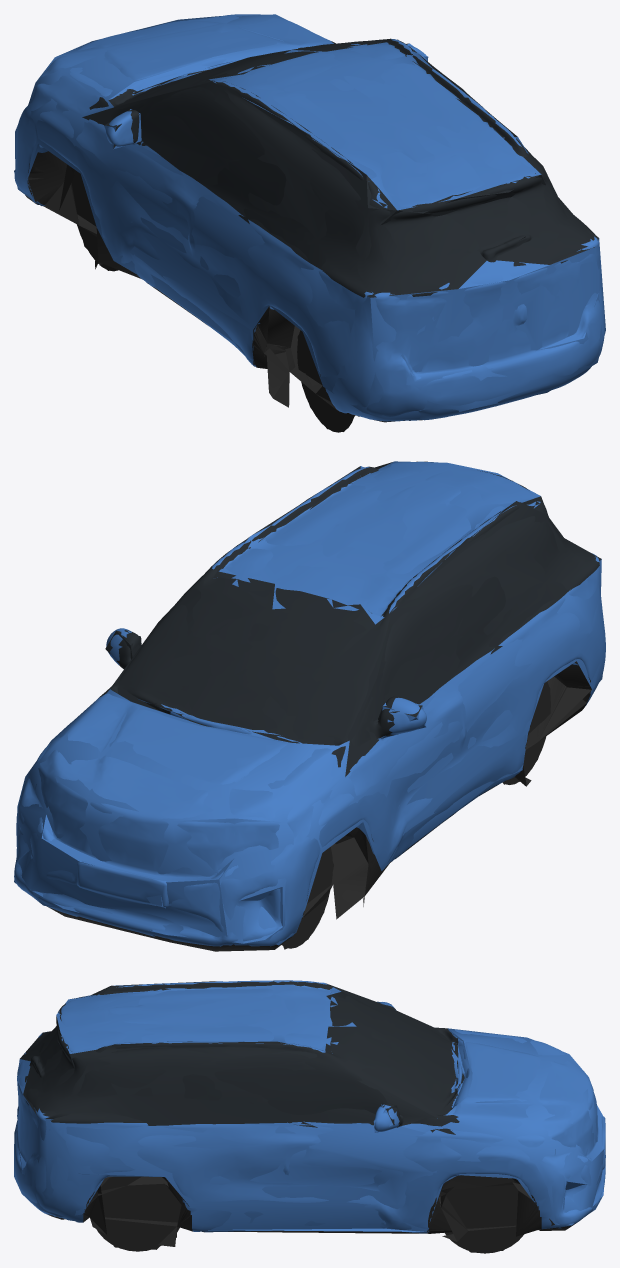
The model's file is kia-seltos.glb.
The picture shows the model from 3 angles, top to bottom: view 1: azimuth 30°, elevation 25°; view 2: azimuth 150°, elevation 25°; view 3: azimuth 270°, elevation 25°; orthographic projection. The views are drawn at different scales.
Parts seen in each view (by area): view 1: body, far; view 2: body, far; view 3: body, far.
Part boxes in pixels (x1,y1,x2,y2): body: (14,14,604,432); far: (14,14,605,431); body: (14,461,605,951); far: (14,461,604,949); body: (14,980,605,1253); far: (14,981,605,1252).
Size of the model in its own units: 2.12 by 1.7 by 4.43.
